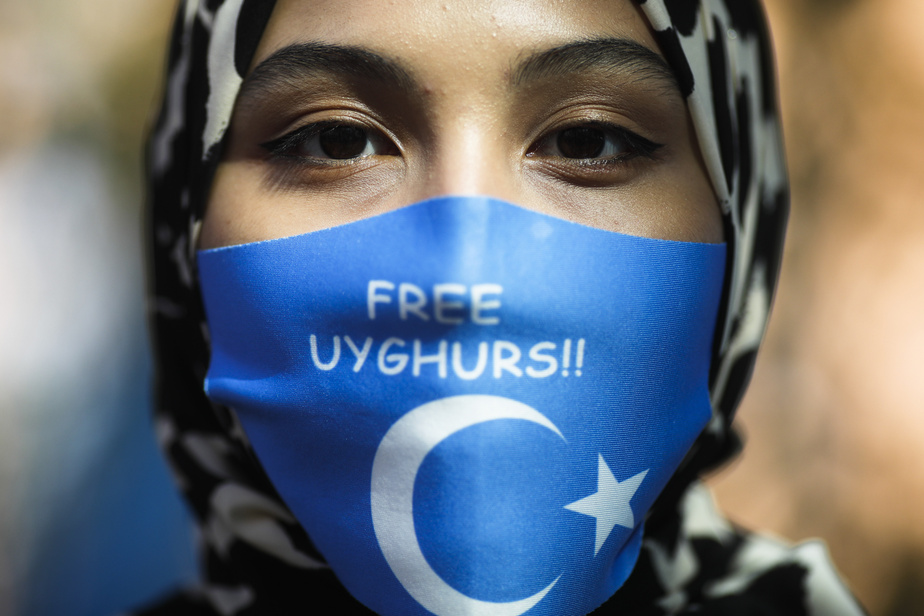with_mask: (197, 13, 727, 616)
